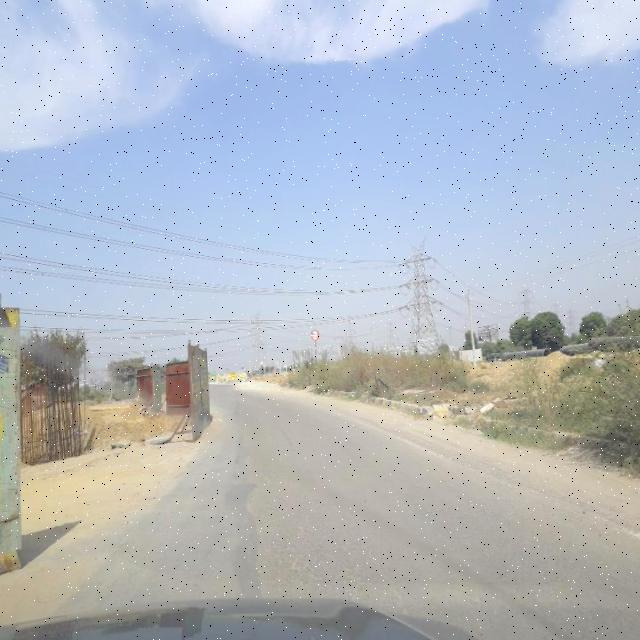D20: (259, 516, 384, 594)
D44: (439, 459, 637, 533)
